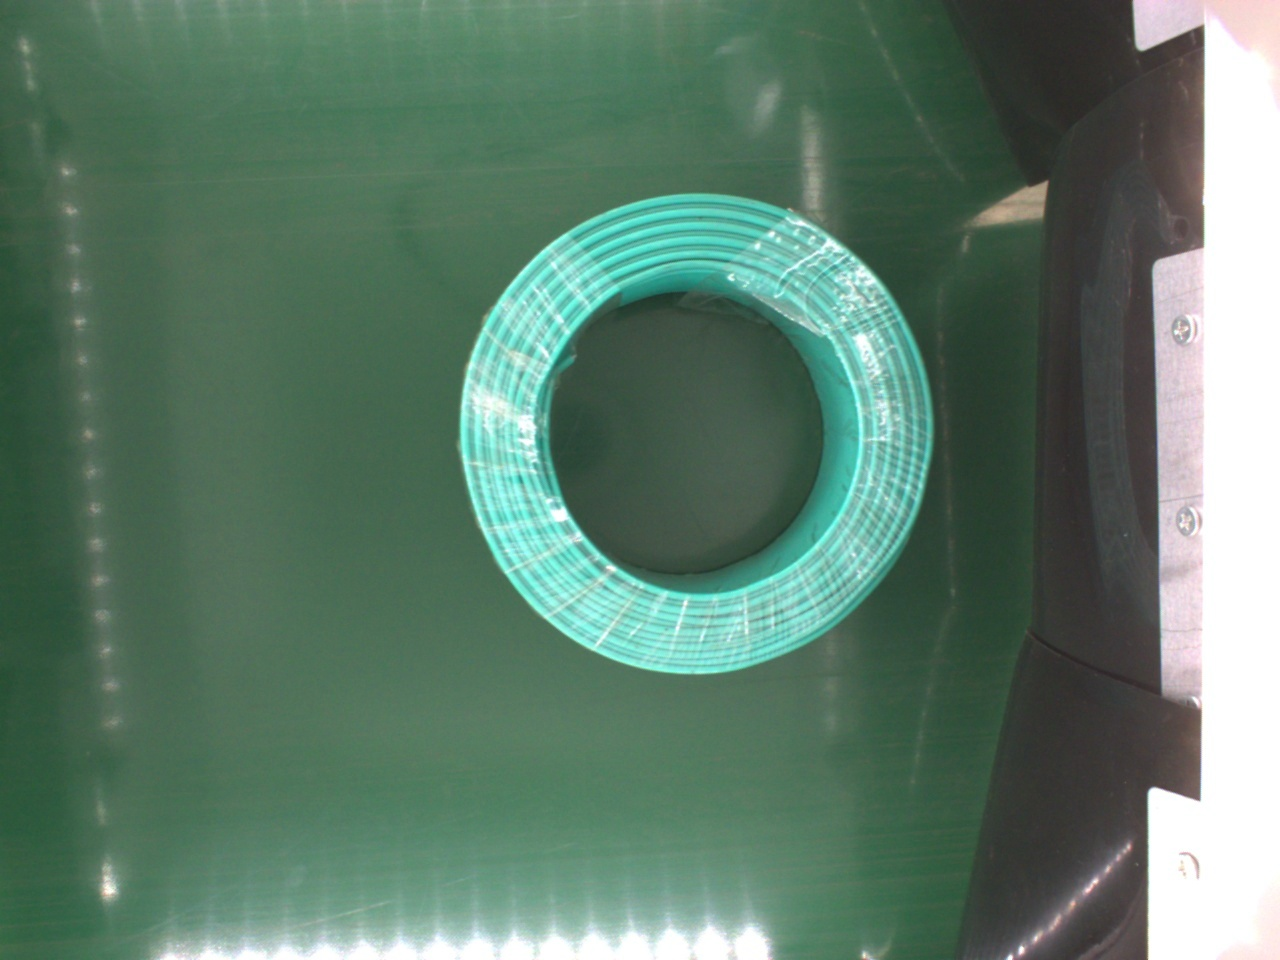green: (458, 193, 935, 677)
